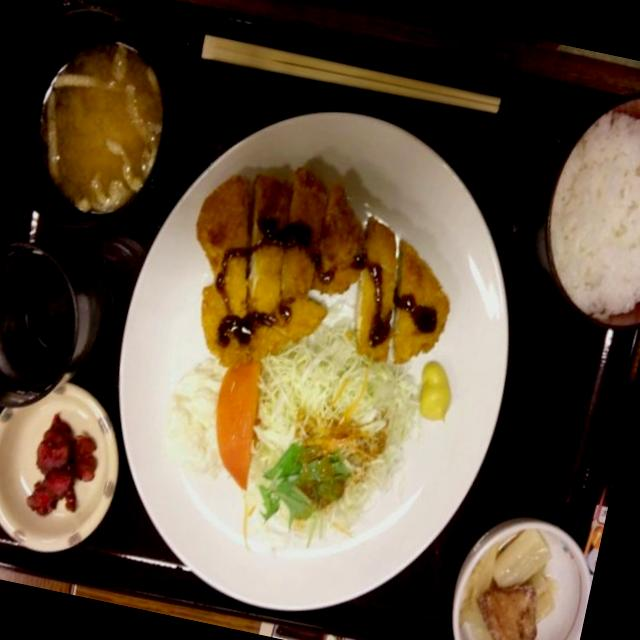Rice: (519, 72, 640, 341)
